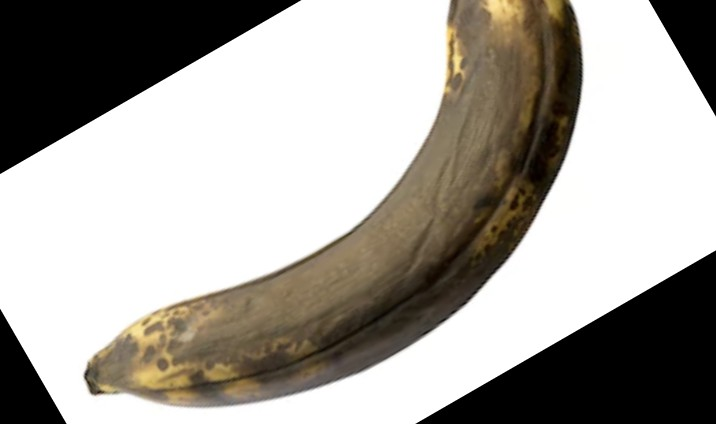rotten_banana: (85, 1, 584, 408)
